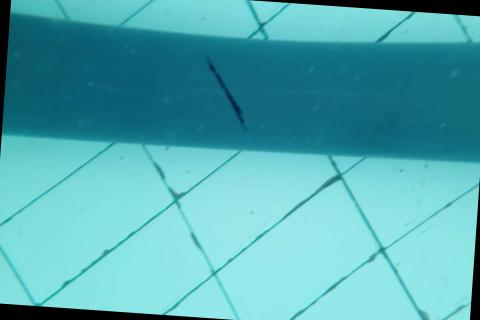keretakan: (199, 53, 250, 125)
